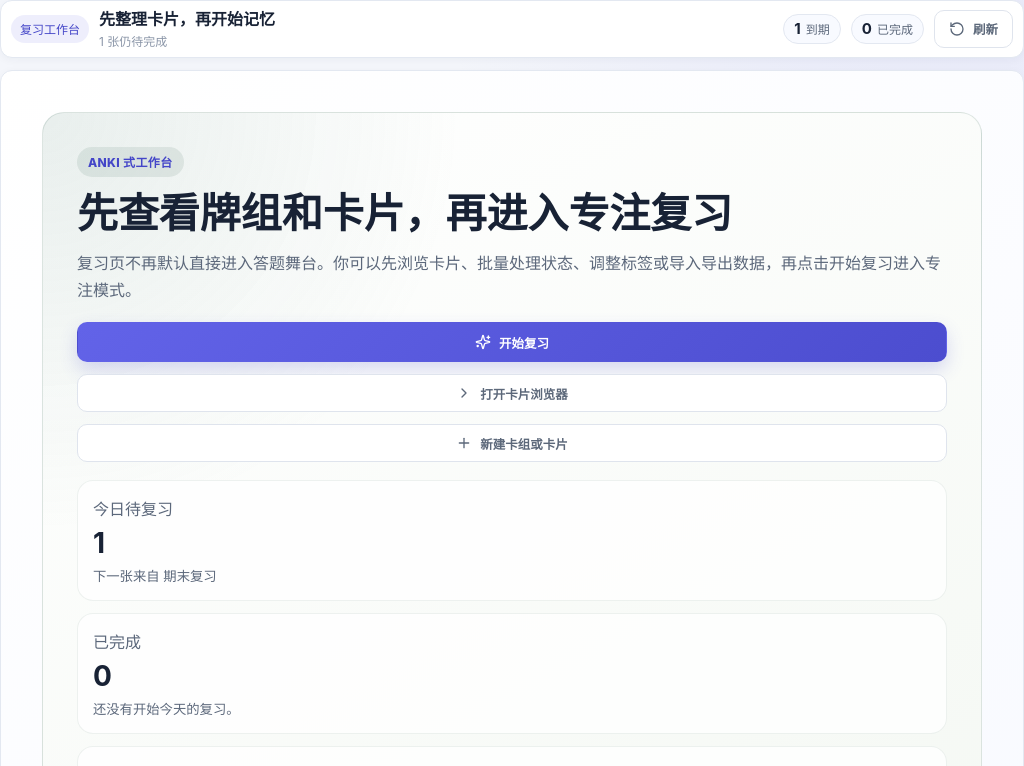
Test: ReviewWorkspacePage › keeps the focused card visible while surfacing a stale state after refresh fails
Click the button "开始复习" at (512, 342), box [77, 322, 947, 362]
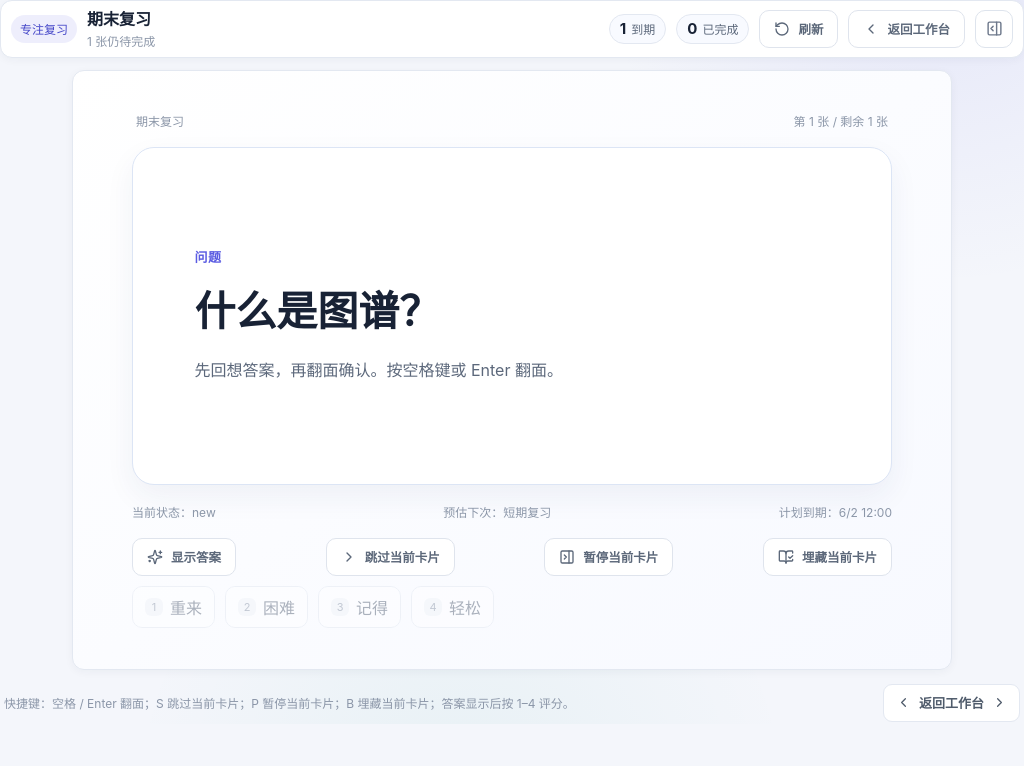
Expected: the text "什么是图谱？" is shown, [194, 286, 440, 336]
Click the button "刷新" at (799, 29), box [760, 10, 838, 48]
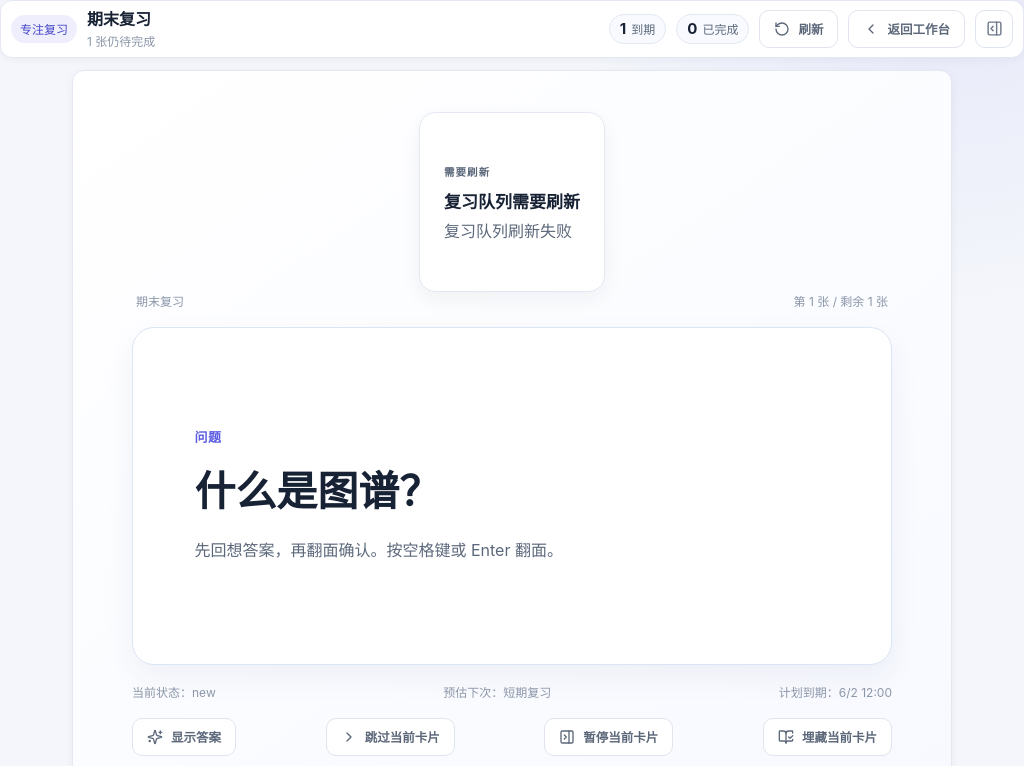
Expected: the text "什么是图谱？" is shown, [194, 466, 440, 516]
Expected: the heading "复习队列需要刷新" is shown, [444, 188, 580, 213]
Expected: the text "复习队列刷新失败" is shown, [444, 219, 580, 244]
